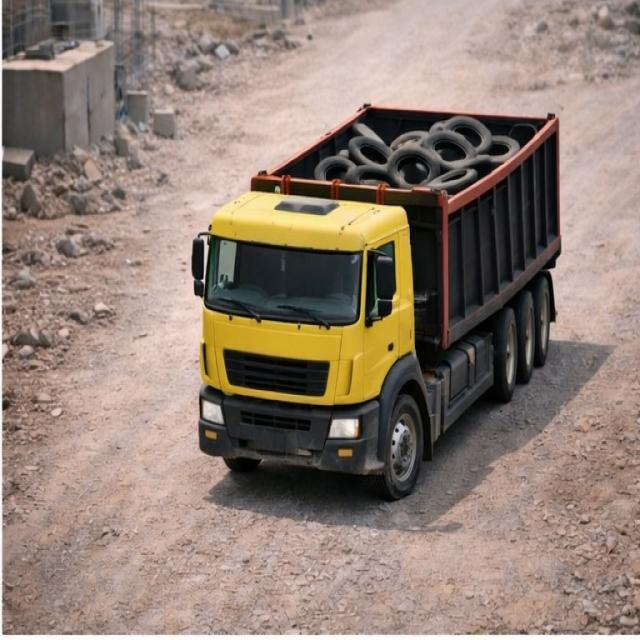Box: (251, 94, 564, 188)
Truck: (184, 47, 568, 490)
